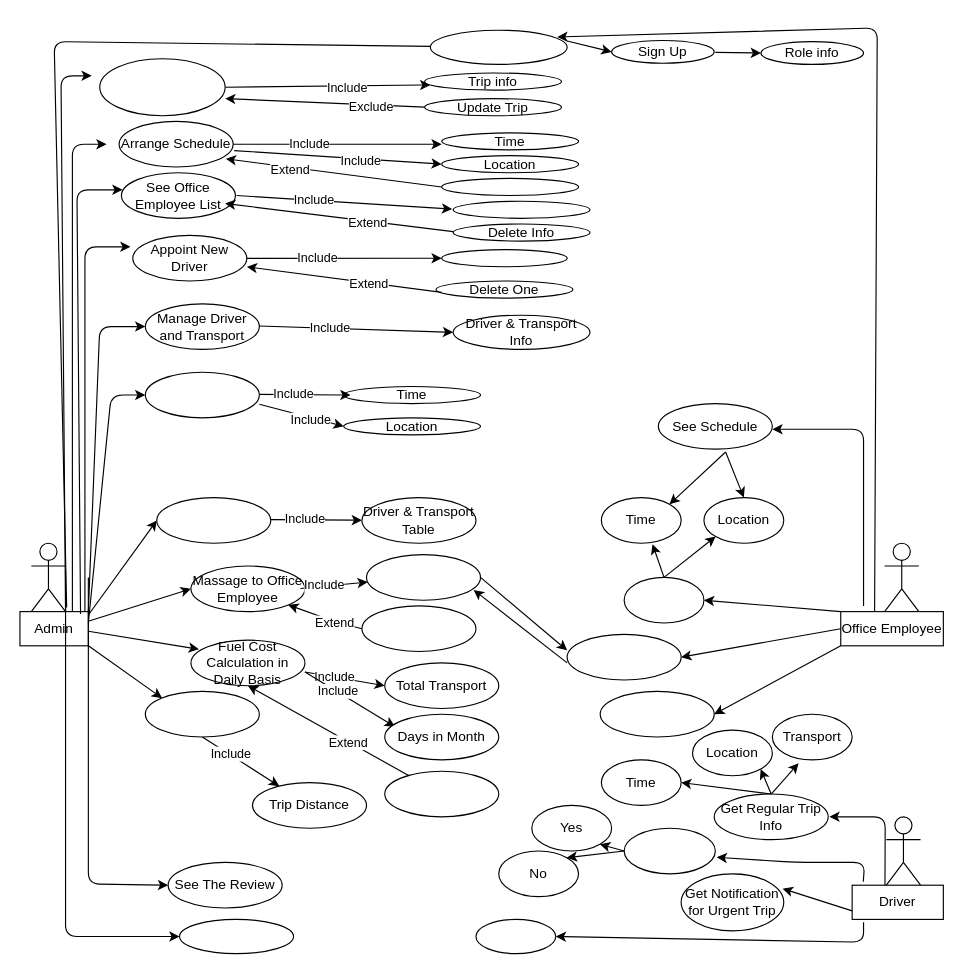
Some shapes in this 963 by 974 pixel diagram are drawn without their labels. Here are the shapes that lost their labels. From the top down, the centre of each, then its label:
At (498,46): "Login".
At (162,87): "Manage Regular Trip".
At (510,186): "Update Schedule".
At (521,209): "Info".
At (504,258): "Add New".
At (201,394): "See Request for Urgent Trip".
At (213,519): "Check Driver Available".
At (423,576): "Accept Request".
At (663,599): "Request for Urgent Trip".
At (418,628): "Reject Request".
At (623,656): "Get Massage From Admin".
At (201,713): "Fuel Cost Calculation on Urgent Trip".
At (656,713): "Give Review About Service".
At (441,793): "Fuel Amount".
At (669,850): "Get The Trip".
At (236,936): "Generate Report".
At (515,936): "Logout".
